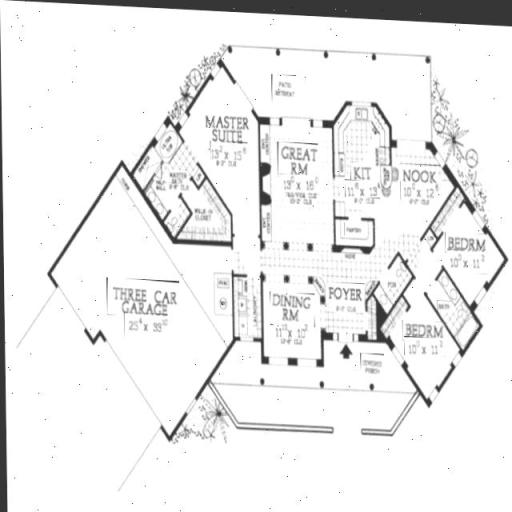Room: (259, 271, 333, 379), (190, 98, 260, 198), (434, 219, 508, 298)
bedroom: (387, 315, 462, 386)
garage: (50, 218, 210, 403)
kitchen: (336, 118, 388, 232)
porch: (235, 49, 439, 108)
